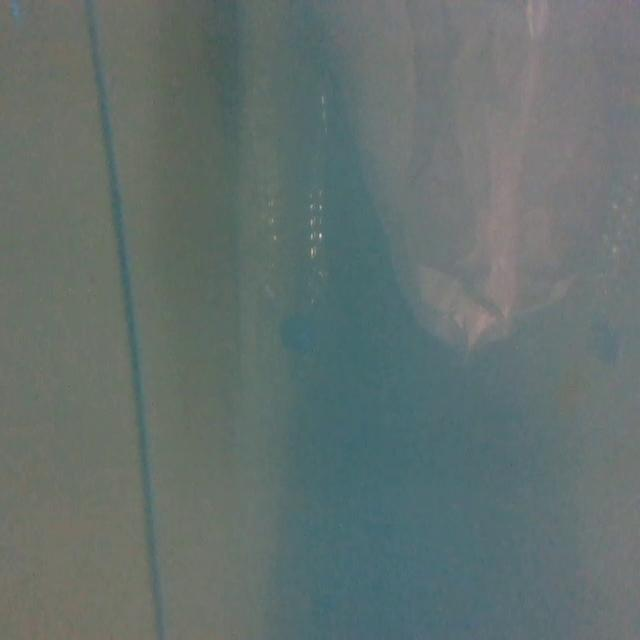plastic bags: (344, 0, 629, 355)
plastic bottle: (248, 65, 334, 350)
